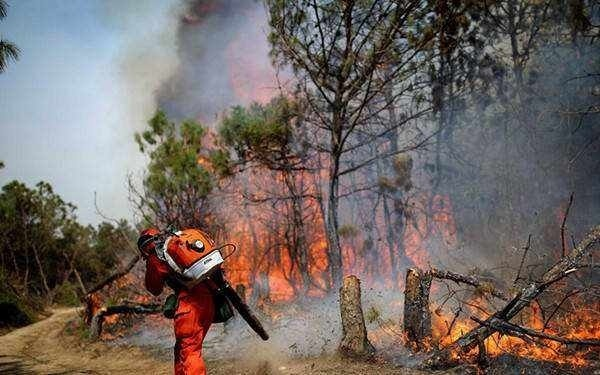fire: (85, 269, 166, 342)
